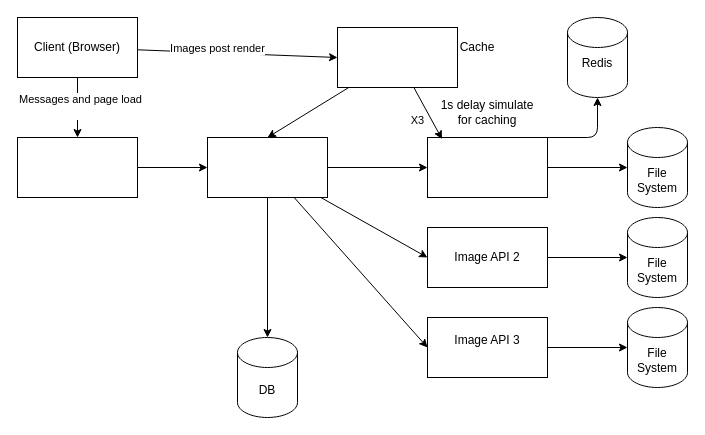
Some shapes in this 705 by 435 pixel diagram are drawn without their labels. Here are the shapes that lost their labels. From the top down, the centre of each, then its label:
At [397,57]: "Nginx".
At [77,167]: "Client (Server)".
At [267,167]: "Message APi".
At [487,167]: "Image API 1".
